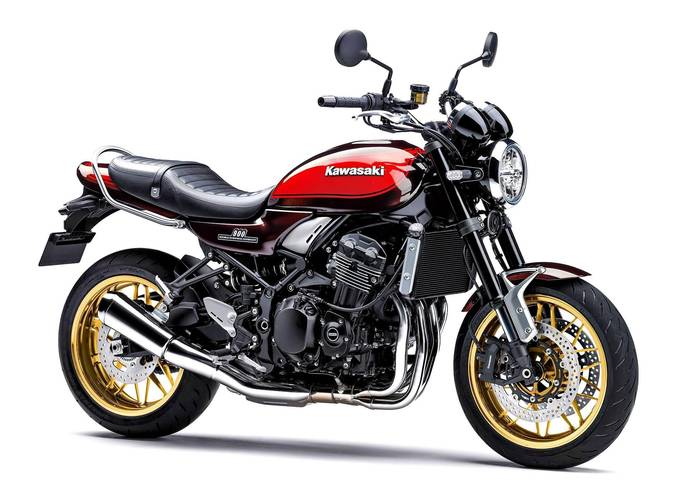摩托车: (33, 16, 660, 482)
